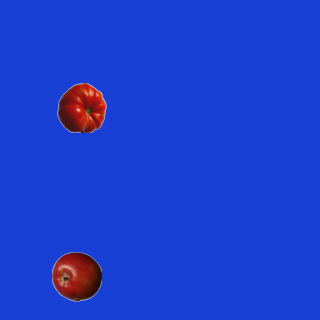Apple Braeburn: (51, 251, 101, 301)
Tomato 3: (56, 82, 106, 132)
